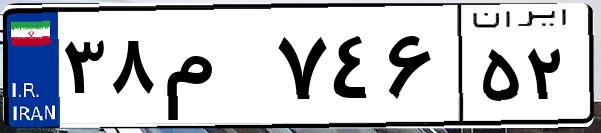2: (525, 38, 570, 115)
3: (57, 26, 110, 100)
4: (330, 28, 385, 110)
5: (475, 38, 525, 113)
6: (385, 28, 445, 110)
7: (270, 28, 330, 110)
8: (110, 28, 158, 98)
م: (158, 20, 270, 120)
